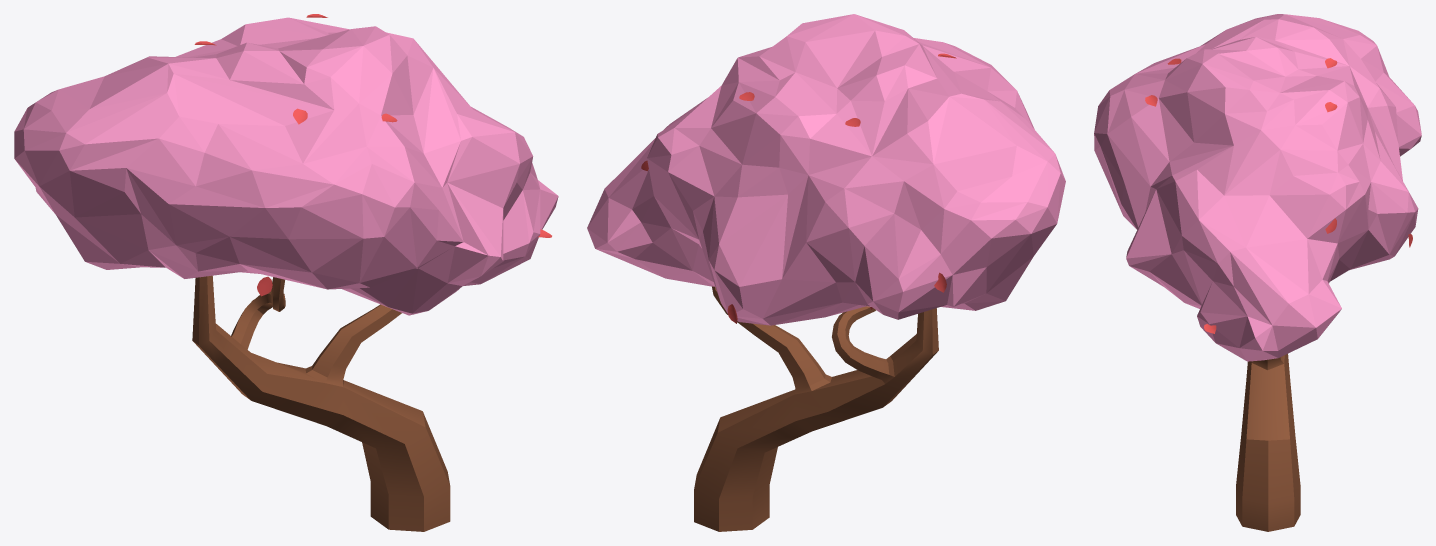
Rendered from cerezo.glb.
The picture shows the model from 3 angles, left to right: view 1: azimuth 30°, elevation 25°; view 2: azimuth 150°, elevation 25°; view 3: azimuth 270°, elevation 25°; orthographic projection. The views are drawn at different scales.
Bounding box in the file's own units: 1.79 × 1.78 × 1.26.
